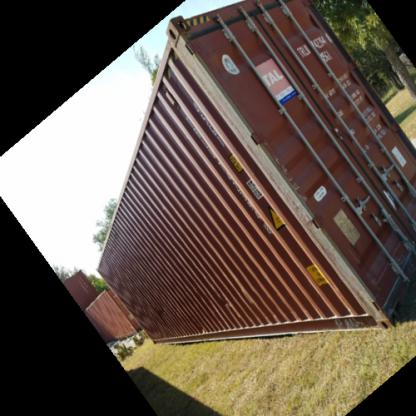Damage: (268, 147, 309, 206), (212, 286, 233, 312), (151, 298, 168, 326), (190, 320, 205, 336)
